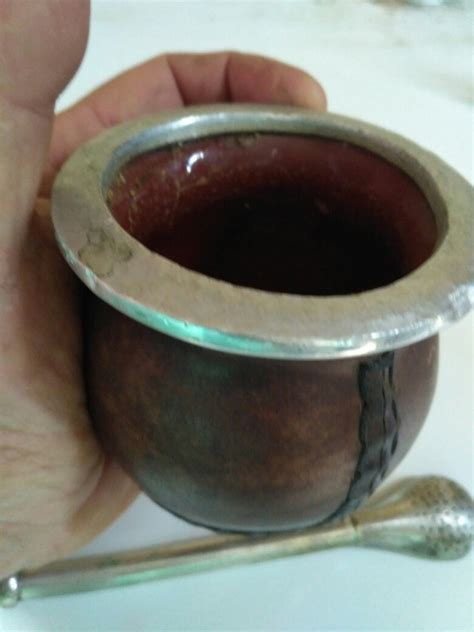cuero: (57, 270, 441, 538)
